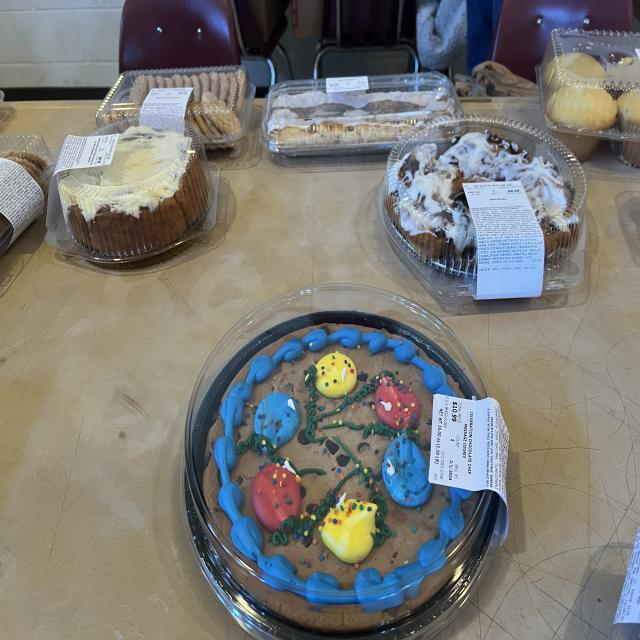Bread: (181, 285, 509, 638), (45, 115, 219, 263), (261, 73, 462, 155), (536, 28, 640, 167), (96, 65, 255, 148), (0, 133, 50, 255)
